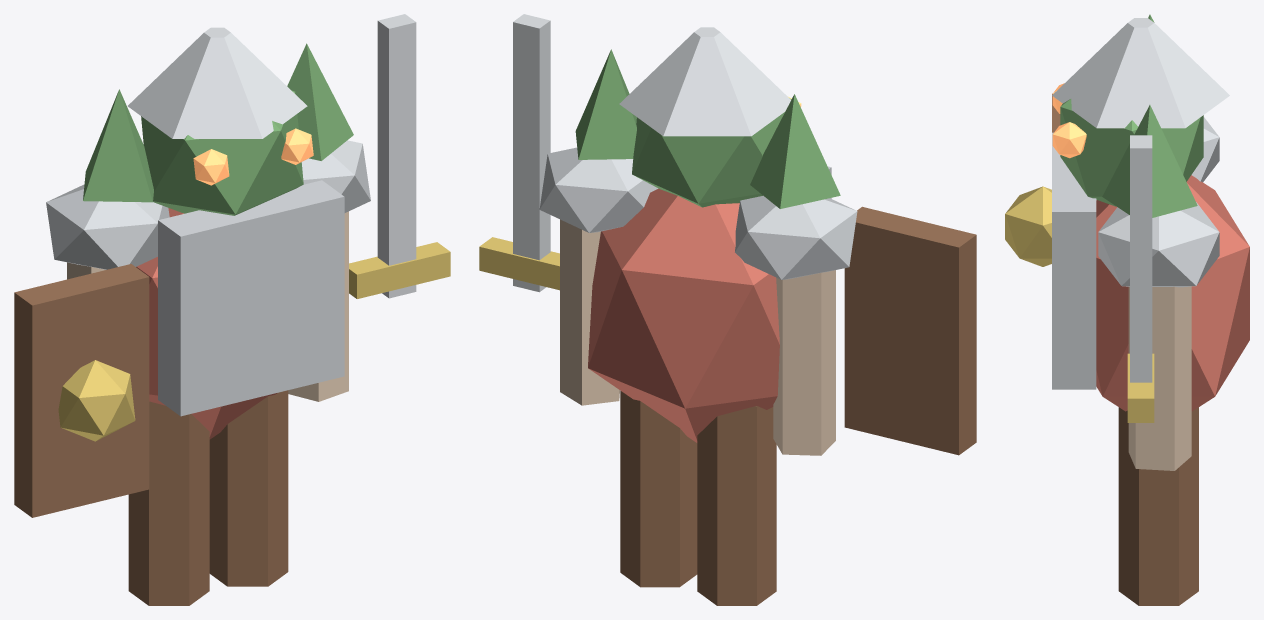
Rendered from armored_goblin.glb.
3 views of the same model, side by side, from view 1: azimuth 30°, elevation 25°; view 2: azimuth 150°, elevation 25°; view 3: azimuth 270°, elevation 25° (orthographic). The views are drawn at different scales.
Parts seen in each view (by area): view 1: breastplate, shield, leg_0, leg_1, helmet, sword, head, pauldron_0, ear_0, boss, ear_1, guard (+5 smaller); view 2: body, shield, leg_0, leg_1, helmet, arm_0, sword, head, pauldron_0, pauldron_1, arm_1, ear_0 (+2 smaller); view 3: body, leg_1, helmet, breastplate, arm_1, pauldron_1, sword, head, ear_1, boss, guard, eye_1 (+1 smaller).
Boxes of the visible parts, x1,y1,x2,y2 form: breastplate: (158,180,344,416); shield: (14,264,149,517); leg_0: (128,401,209,605); leg_1: (209,390,288,586); helmet: (127,27,307,138); sword: (377,14,416,298); head: (141,90,303,215); pauldron_0: (46,184,169,269); ear_0: (83,89,153,202); boss: (58,360,135,441); ear_1: (287,43,353,160); guard: (349,242,450,298); body: (588,188,779,442); shield: (844,206,976,455); leg_0: (697,406,776,605); leg_1: (620,390,697,587); helmet: (619,27,790,136); arm_0: (773,270,835,455); sword: (513,14,550,292); head: (632,98,791,207); pauldron_0: (735,195,857,279); pauldron_1: (539,147,658,232); arm_1: (560,219,619,405); ear_0: (750,94,840,208); body: (1096,175,1249,411); leg_1: (1118,407,1198,605); helmet: (1052,18,1229,128); breastplate: (1052,132,1096,389); arm_1: (1128,286,1191,470); pauldron_1: (1098,202,1219,287); sword: (1130,135,1152,382); head: (1060,99,1203,206); ear_1: (1102,105,1197,217); boss: (1005,186,1051,266); guard: (1127,353,1154,422); eye_1: (1052,122,1086,158).
Bounding box in the file's own units: 1.17 × 1.36 × 0.5492.
